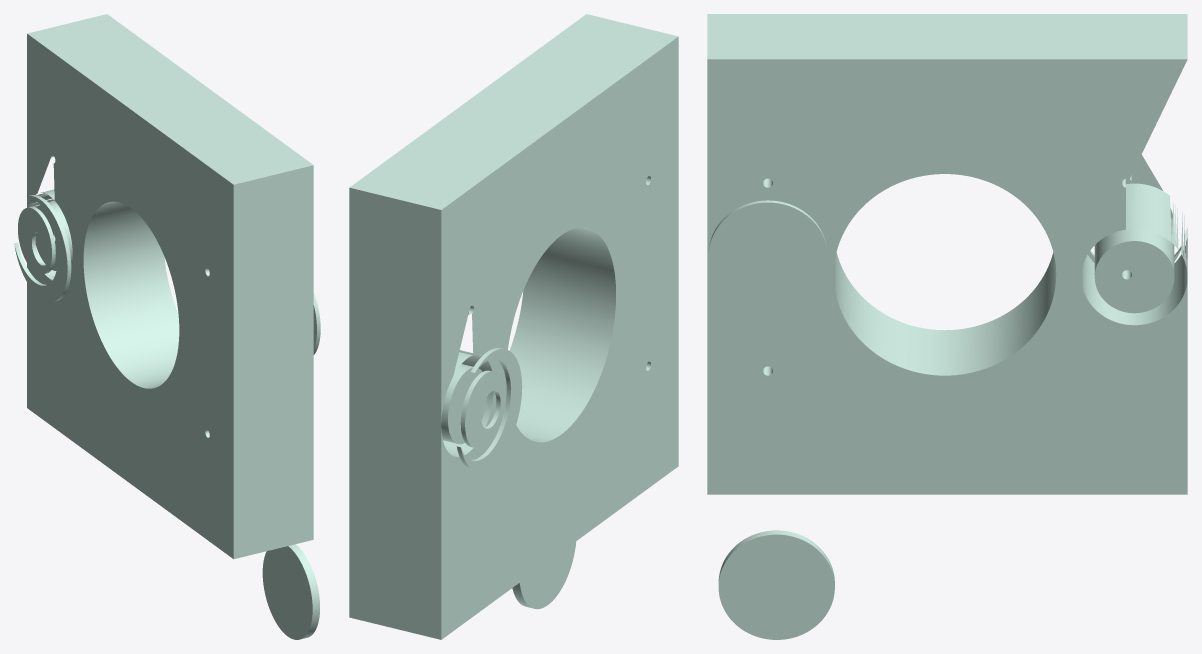
3 views of the same model, side by side, from view 1: azimuth 30°, elevation 25°; view 2: azimuth 150°, elevation 25°; view 3: azimuth 270°, elevation 25° (orthographic). The views are drawn at different scales.
Parts seen in each view (by area): view 1: Renderer Node; view 2: Renderer Node; view 3: Renderer Node.
Part boxes in pixels (box(x1,y1,x2,y2)): Renderer Node: box(14, 14, 320, 639); Renderer Node: box(349, 14, 678, 639); Renderer Node: box(707, 14, 1187, 639).
Size of the model in its own units: 0.4453 by 1.98 by 1.5.
